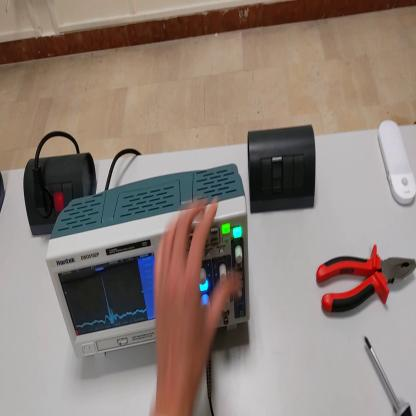hand: (153, 199, 240, 394)
oscilloscope: (46, 161, 252, 357)
pliers: (315, 239, 416, 323)
screwdriver-: (364, 334, 413, 415)
socket: (23, 152, 98, 240), (2, 172, 8, 214)
